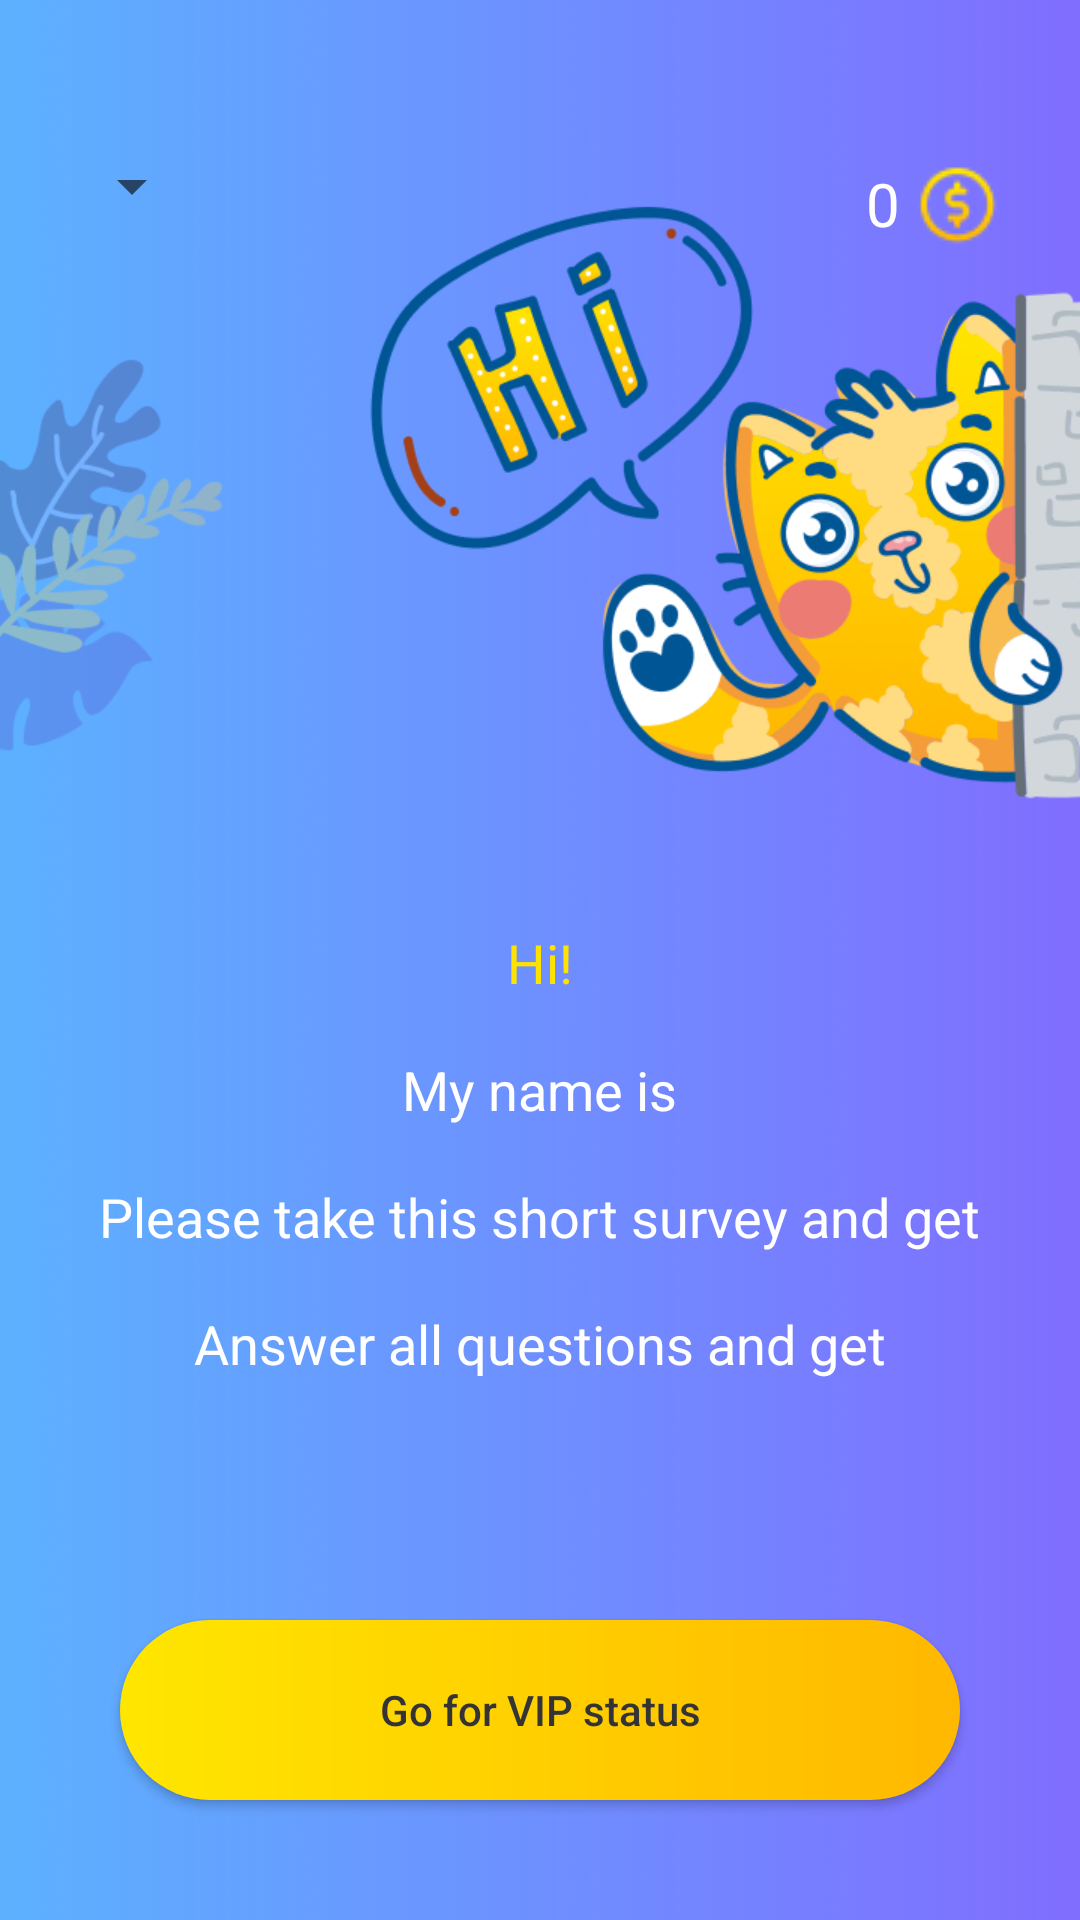

Locate icon controls on the screen. Image size 1080px×1920px, boxes as (x1,y1,x2,y2).
money: (920,167,996,244)
